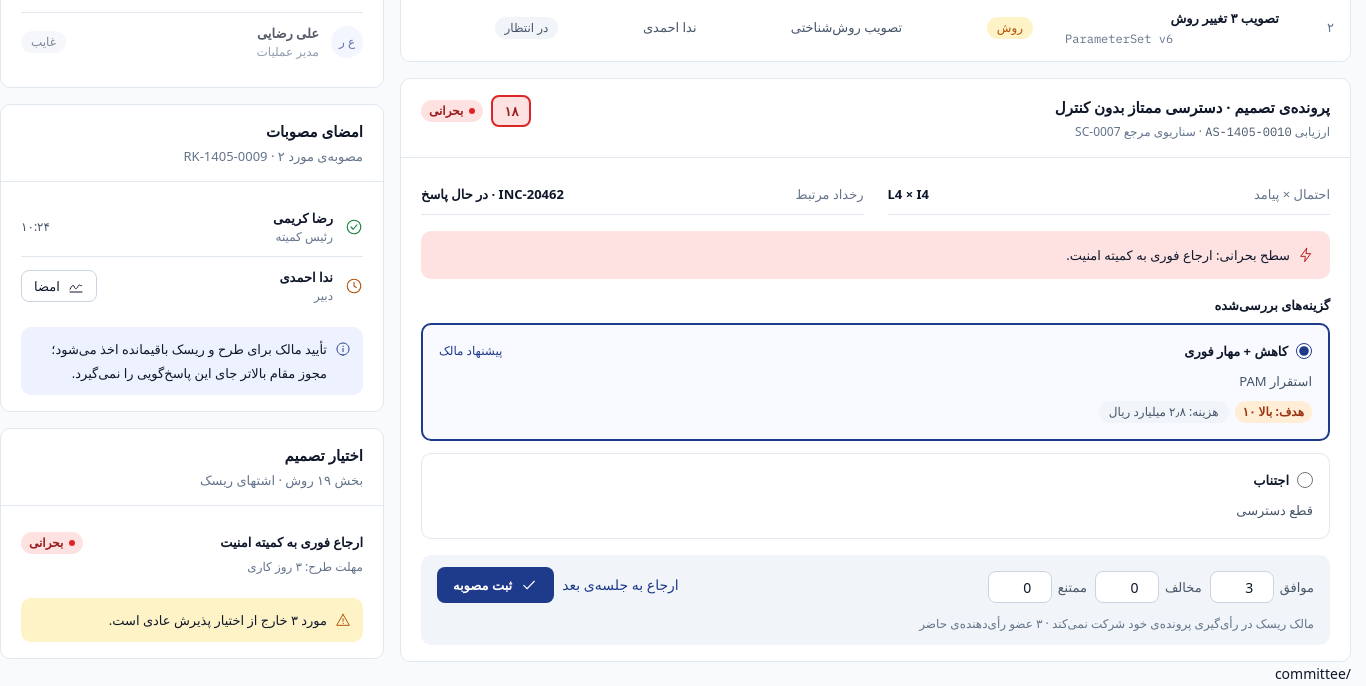
Scenario: CommitteePage › blocks a resolution with more votes than voters
(page scrolled)
Replace the text in the number field labelled "ممتنع" with "1". click: (1020, 587)
box: [988, 571, 1052, 603]
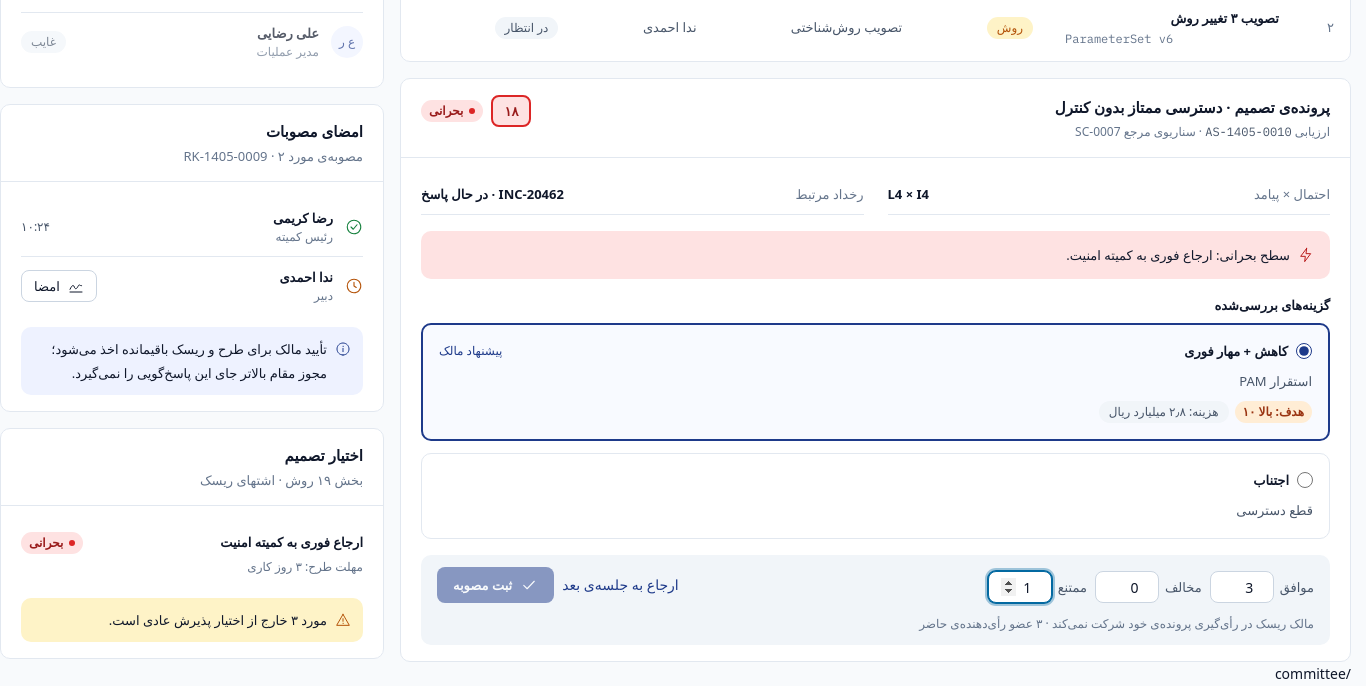
Now the button "ثبت مصوبه" is disabled, box [437, 567, 554, 603]
